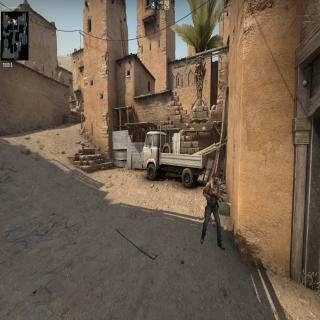T-Head: (212, 170, 220, 188)
